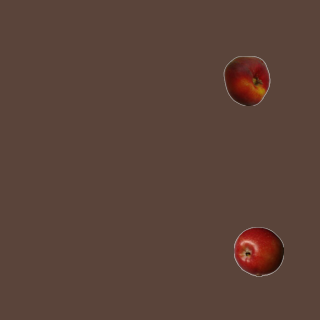Apple Braeburn: (233, 226, 283, 276)
Nectarine Flat: (221, 55, 271, 105)
